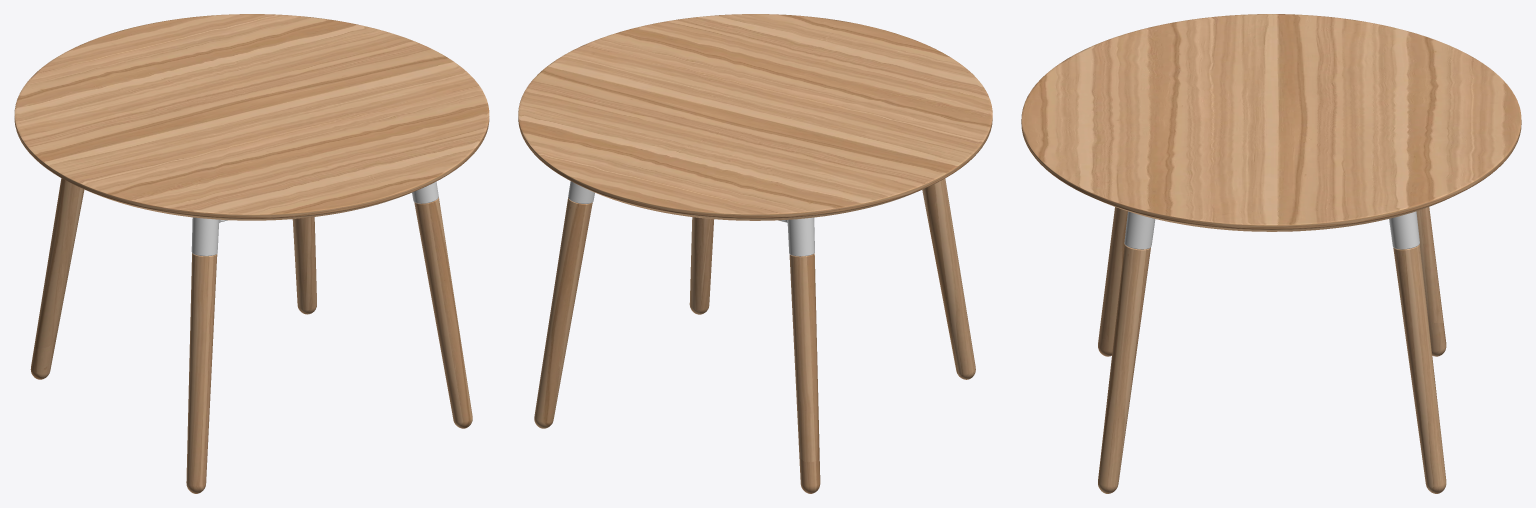
File: edelweiss_round_table_ash_and_white.glb
3 renders of one model, left to right at view 1: azimuth 30°, elevation 25°; view 2: azimuth 150°, elevation 25°; view 3: azimuth 270°, elevation 25°, orthographic. The views are drawn at different scales.
Visible parts, largest first — view 1: Edelweiss_Round_Dining_Table_Walnut_and_Black_WALNUT_0, Edelweiss_Round_Dining_Table_Walnut_and_Black_BLACK_0; view 2: Edelweiss_Round_Dining_Table_Walnut_and_Black_WALNUT_0, Edelweiss_Round_Dining_Table_Walnut_and_Black_BLACK_0; view 3: Edelweiss_Round_Dining_Table_Walnut_and_Black_WALNUT_0, Edelweiss_Round_Dining_Table_Walnut_and_Black_BLACK_0.
Boxes of the visible parts, <box> form: Edelweiss_Round_Dining_Table_Walnut_and_Black_WALNUT_0: <box>14,14,489,493</box>; Edelweiss_Round_Dining_Table_Walnut_and_Black_BLACK_0: <box>191,181,438,256</box>; Edelweiss_Round_Dining_Table_Walnut_and_Black_WALNUT_0: <box>518,14,992,493</box>; Edelweiss_Round_Dining_Table_Walnut_and_Black_BLACK_0: <box>568,181,814,256</box>; Edelweiss_Round_Dining_Table_Walnut_and_Black_WALNUT_0: <box>1021,14,1521,493</box>; Edelweiss_Round_Dining_Table_Walnut_and_Black_BLACK_0: <box>1124,211,1419,249</box>.
Size of what is drawn, in the model's own units: 110 by 74.13 by 110.
Materials: 2 (1 with a texture image).
